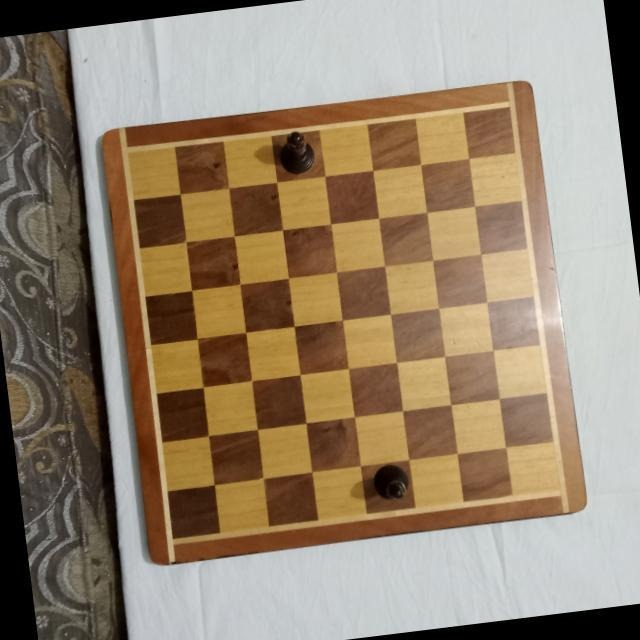black-bishop: (276, 128, 318, 178), (369, 463, 411, 505)
